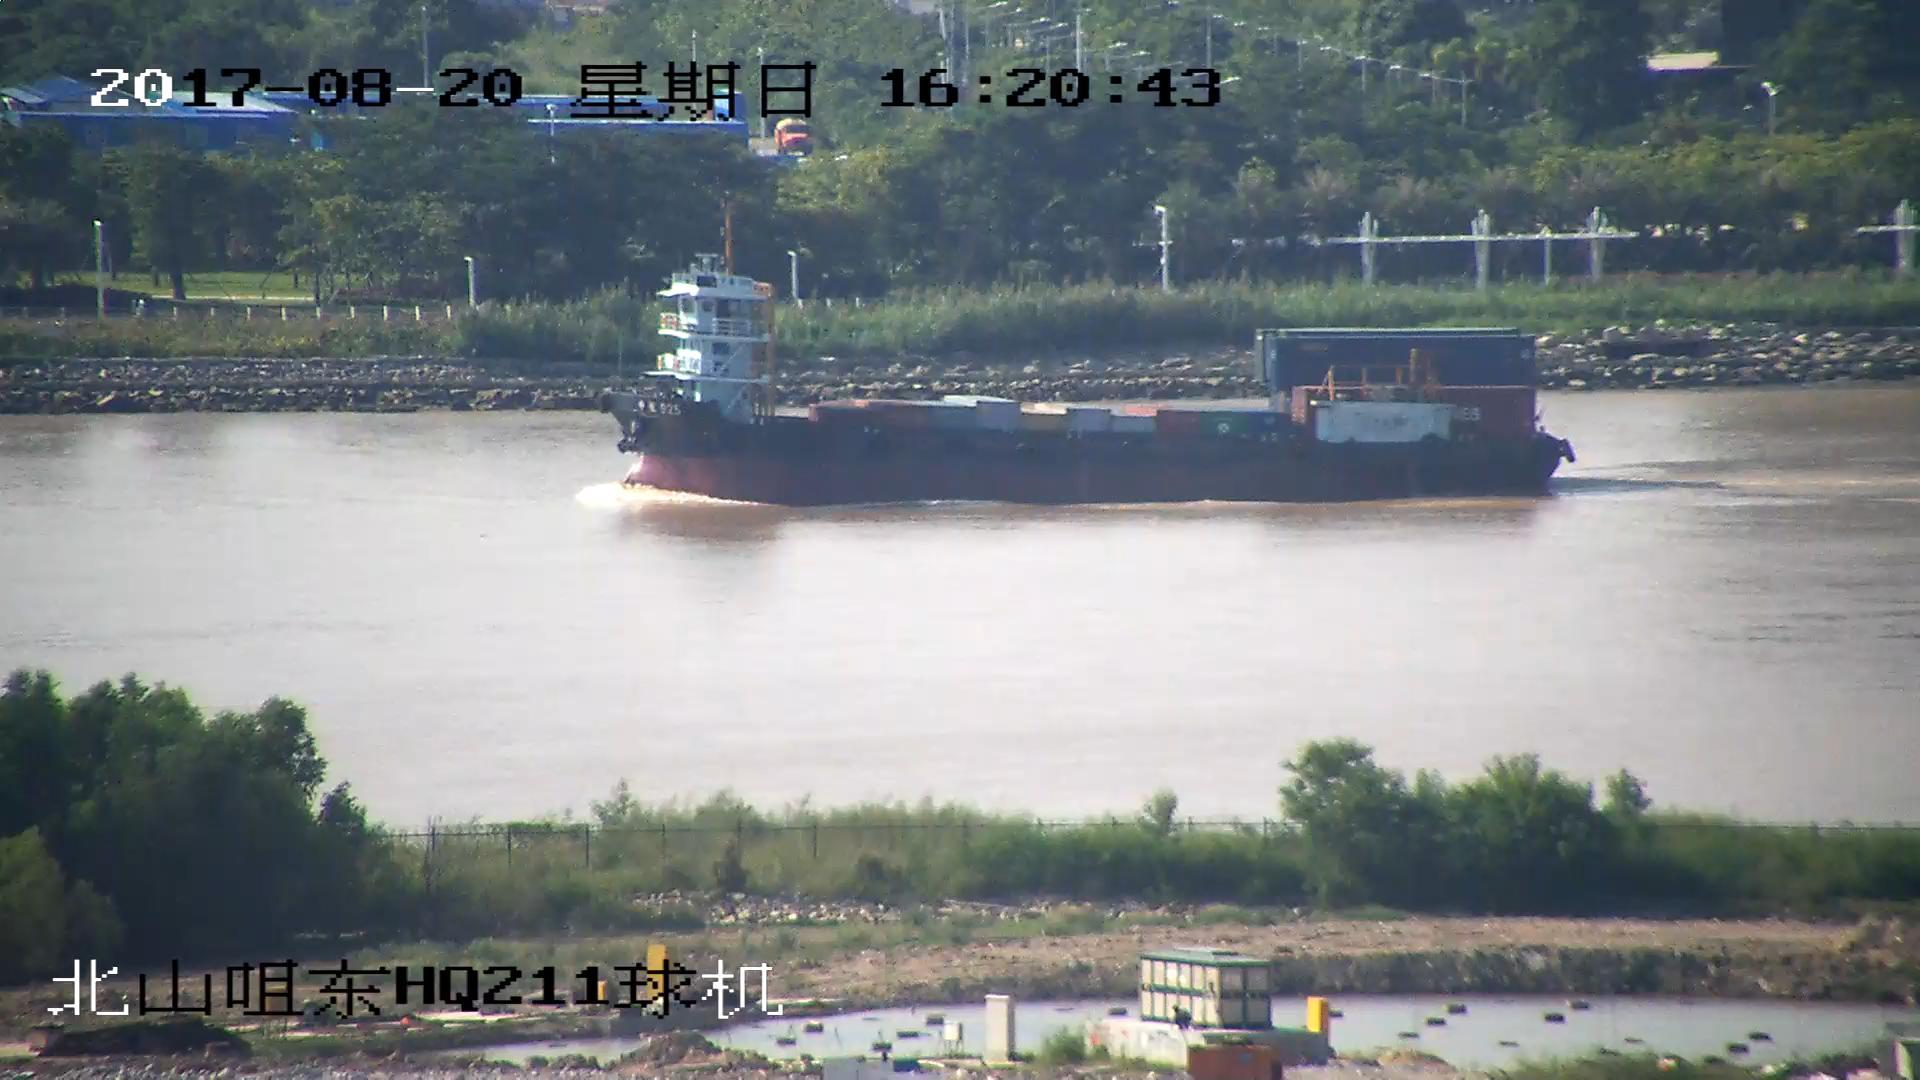Ship: (608, 202, 1575, 504)
